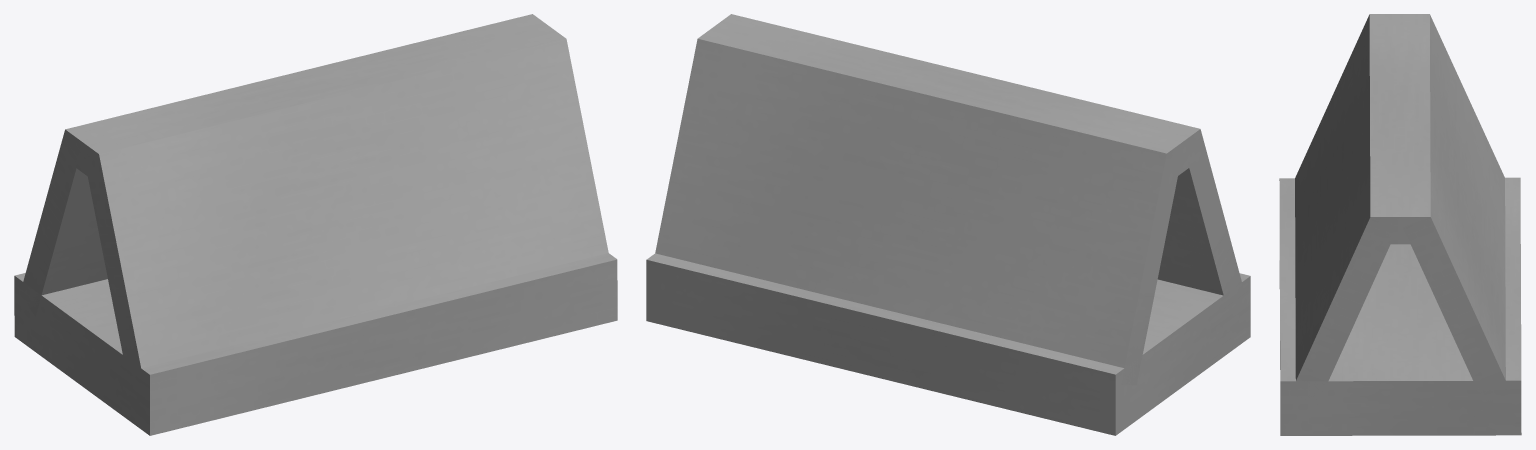
The model's file is platform_light_half_base.obj.
3 renders of one model, left to right at view 1: azimuth 30°, elevation 25°; view 2: azimuth 150°, elevation 25°; view 3: azimuth 270°, elevation 25°, orthographic. The views are drawn at different scales.
Parts seen in each view (by area): view 1: 1, 0, 3, 2; view 2: 2, 0, 3, 1; view 3: 0, 1, 2, 3.
Part boxes in pixels (x1,y1,x2,y2): 1: (88,39,608,384); 0: (14,253,617,435); 3: (65,14,565,184); 2: (23,130,107,316); 2: (655,39,1182,385); 0: (646,253,1250,435); 3: (698,14,1200,175); 1: (1157,130,1241,295); 0: (1279,177,1521,435); 1: (1291,14,1397,399); 2: (1403,15,1505,403); 3: (1369,14,1430,244).
Bounding box in the file's own units: 16.02 × 8.04 × 8.03.
